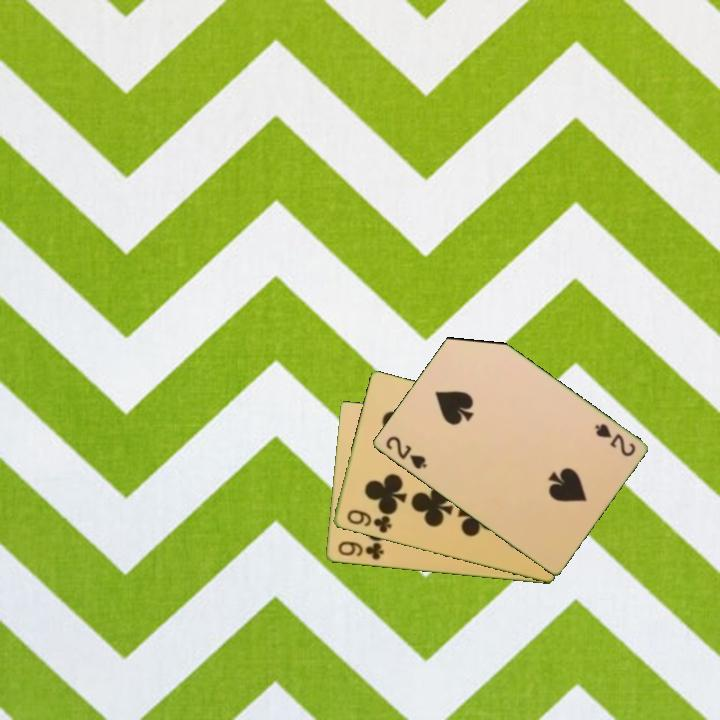2s: (382, 432, 429, 472), (591, 420, 638, 460)
9c: (343, 506, 394, 536), (334, 538, 386, 563)
